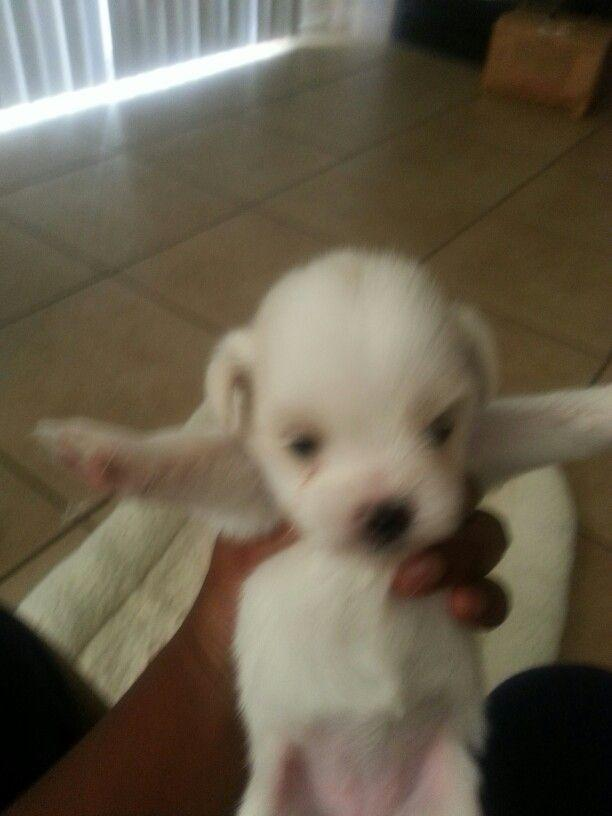puppy-dog: (30, 246, 612, 816)
